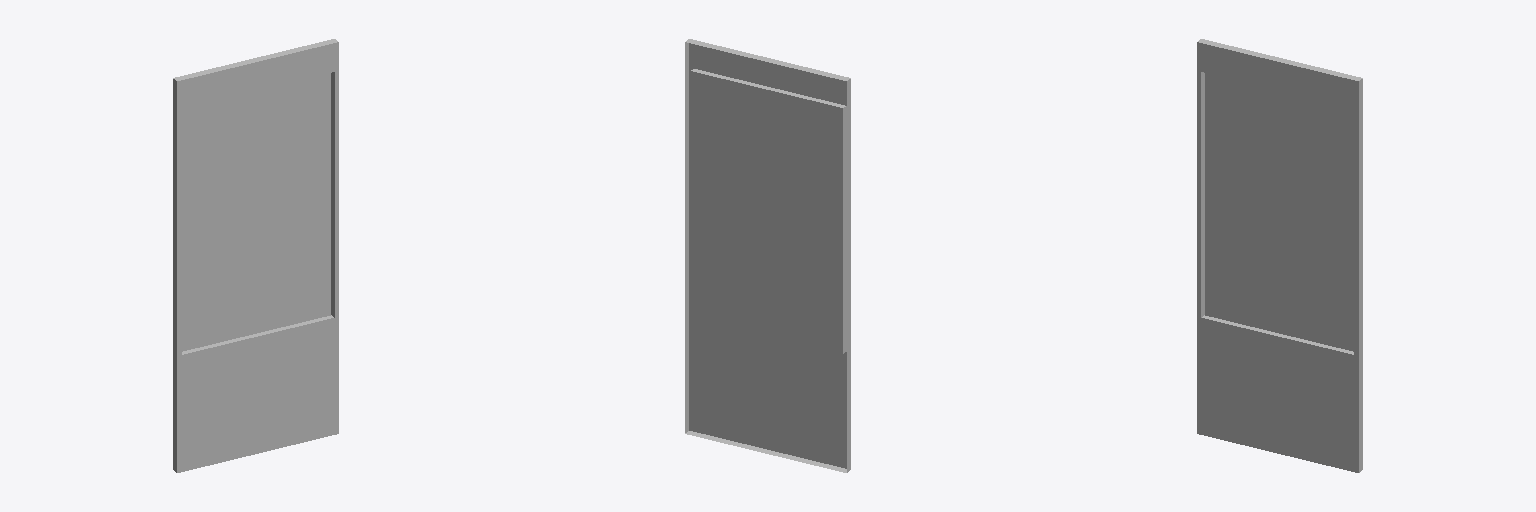
The model's file is wall_window_asset.obj.
The picture shows the model from 3 angles: view 1: azimuth 30°, elevation 25°; view 2: azimuth 150°, elevation 25°; view 3: azimuth 330°, elevation 25°; orthographic projection.
Parts seen in each view (by area): view 1: WallWindow_Cube.003; view 2: WallWindow_Cube.003; view 3: WallWindow_Cube.003.
Part boxes in pixels (x1,y1,x2,y2): WallWindow_Cube.003: (173,39,338,472); WallWindow_Cube.003: (685,39,850,472); WallWindow_Cube.003: (1197,39,1362,472).
Size of the model in its own units: 150 by 347 by 7.29.